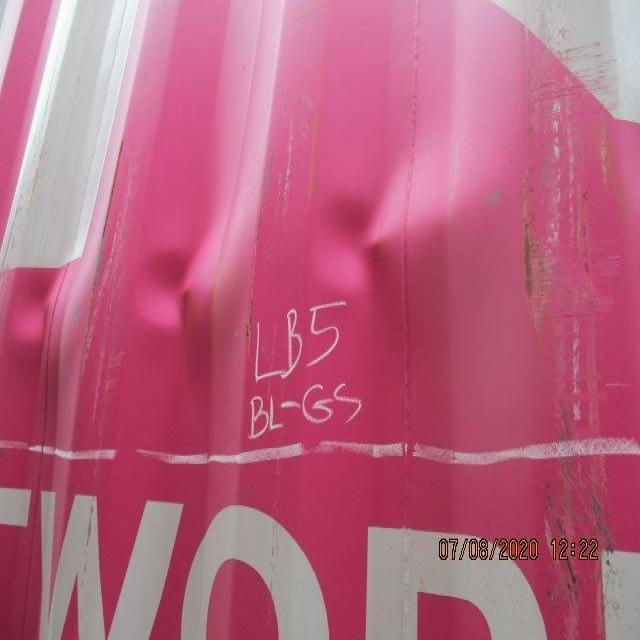dent: (2, 107, 640, 547)
